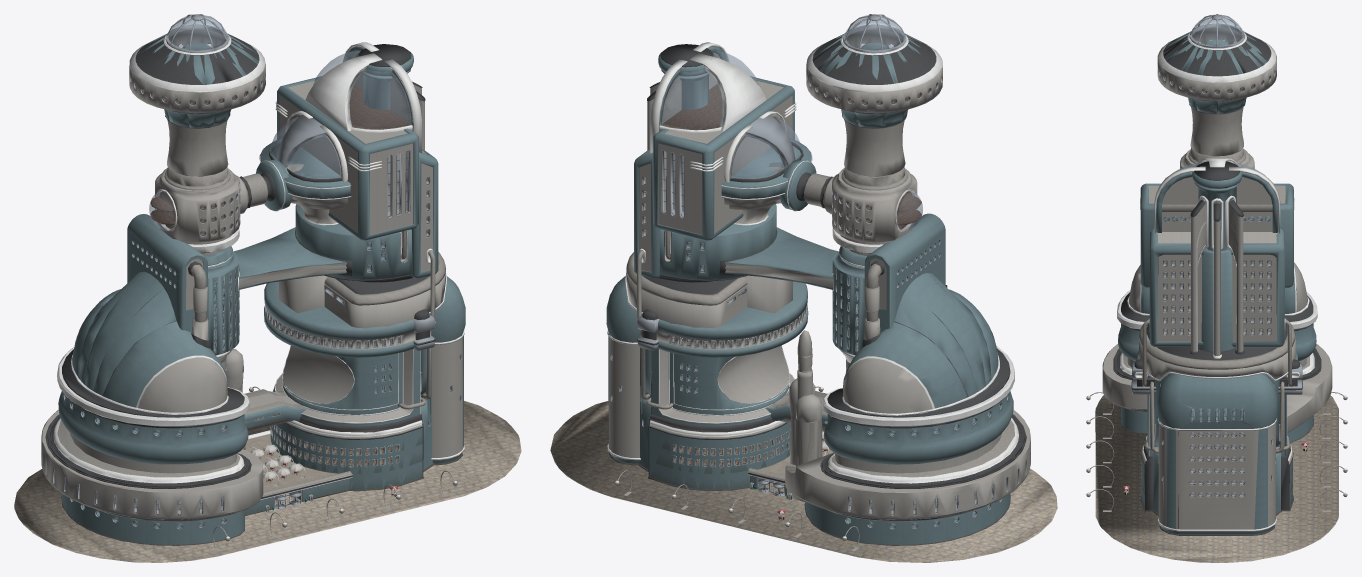
Rendered from cargo_retro_tower.glb.
3 renders of one model, left to right at view 1: azimuth 30°, elevation 25°; view 2: azimuth 150°, elevation 25°; view 3: azimuth 270°, elevation 25°, orthographic. The views are drawn at different scales.
Visible parts, largest first — view 1: KB3D_ATP_BldgLgBusinessCenter_A_BuildingC, KB3D_ATP_BldgLgBusinessCenter_A_BuildingE, KB3D_ATP_BldgLgBusinessCenter_A_BuildingD, KB3D_ATP_BldgLgBusinessCenter_A_Base, KB3D_ATP_BldgLgBusinessCenter_A_BuildingC_transparent, KB3D_ATP_BldgLgBusinessCenter_A_BridgeA, KB3D_ATP_BldgLgBusinessCenter_A_BuildingA, KB3D_ATP_BldgLgBusinessCenter_A_BuildingD_transparent, KB3D_ATP_BldgLgBusinessCenter_A_BridgeB, KB3D_ATP_BldgLgBusinessCenter_A_BuildingB; view 2: KB3D_ATP_BldgLgBusinessCenter_A_BuildingC, KB3D_ATP_BldgLgBusinessCenter_A_BuildingE, KB3D_ATP_BldgLgBusinessCenter_A_BuildingD, KB3D_ATP_BldgLgBusinessCenter_A_Base, KB3D_ATP_BldgLgBusinessCenter_A_BuildingC_transparent, KB3D_ATP_BldgLgBusinessCenter_A_BridgeA, KB3D_ATP_BldgLgBusinessCenter_A_BuildingB, KB3D_ATP_BldgLgBusinessCenter_A_BuildingD_transparent, KB3D_ATP_BldgLgBusinessCenter_A_BuildingA, KB3D_ATP_BldgLgBusinessCenter_A_BridgeB; view 3: KB3D_ATP_BldgLgBusinessCenter_A_BuildingC, KB3D_ATP_BldgLgBusinessCenter_A_Base, KB3D_ATP_BldgLgBusinessCenter_A_BuildingD, KB3D_ATP_BldgLgBusinessCenter_A_BuildingE, KB3D_ATP_BldgLgBusinessCenter_A_BuildingC_transparent, KB3D_ATP_BldgLgBusinessCenter_A_BuildingD_transparent.
Part boxes in pixels (x1,y1,x2,y2): KB3D_ATP_BldgLgBusinessCenter_A_BuildingC: (256,42,465,491); KB3D_ATP_BldgLgBusinessCenter_A_BuildingE: (41,214,263,545); KB3D_ATP_BldgLgBusinessCenter_A_BuildingD: (129,14,275,372); KB3D_ATP_BldgLgBusinessCenter_A_Base: (14,401,521,562); KB3D_ATP_BldgLgBusinessCenter_A_BuildingC_transparent: (270,50,451,465); KB3D_ATP_BldgLgBusinessCenter_A_BridgeA: (233,227,346,289); KB3D_ATP_BldgLgBusinessCenter_A_BuildingA: (244,430,352,515); KB3D_ATP_BldgLgBusinessCenter_A_BuildingD_transparent: (135,14,255,350); KB3D_ATP_BldgLgBusinessCenter_A_BridgeB: (244,389,306,431); KB3D_ATP_BldgLgBusinessCenter_A_BuildingB: (226,349,245,449); KB3D_ATP_BldgLgBusinessCenter_A_BuildingC: (606,42,816,490); KB3D_ATP_BldgLgBusinessCenter_A_BuildingE: (785,213,1030,545); KB3D_ATP_BldgLgBusinessCenter_A_BuildingD: (796,14,942,371); KB3D_ATP_BldgLgBusinessCenter_A_Base: (550,401,1057,562); KB3D_ATP_BldgLgBusinessCenter_A_BuildingC_transparent: (620,50,801,465); KB3D_ATP_BldgLgBusinessCenter_A_BridgeA: (725,227,838,289); KB3D_ATP_BldgLgBusinessCenter_A_BuildingB: (789,330,822,465); KB3D_ATP_BldgLgBusinessCenter_A_BuildingD_transparent: (817,14,936,350); KB3D_ATP_BldgLgBusinessCenter_A_BuildingA: (720,438,833,501); KB3D_ATP_BldgLgBusinessCenter_A_BridgeB: (765,391,827,431); KB3D_ATP_BldgLgBusinessCenter_A_BuildingC: (1131,158,1302,535); KB3D_ATP_BldgLgBusinessCenter_A_Base: (1095,395,1338,562); KB3D_ATP_BldgLgBusinessCenter_A_BuildingD: (1157,14,1276,169); KB3D_ATP_BldgLgBusinessCenter_A_BuildingE: (1102,262,1332,443); KB3D_ATP_BldgLgBusinessCenter_A_BuildingC_transparent: (1163,162,1271,496); KB3D_ATP_BldgLgBusinessCenter_A_BuildingD_transparent: (1165,14,1269,93).
Size of the model in its own units: 34.02 by 33.2 by 18.77.
Materials: 38 (38 with a texture image).
